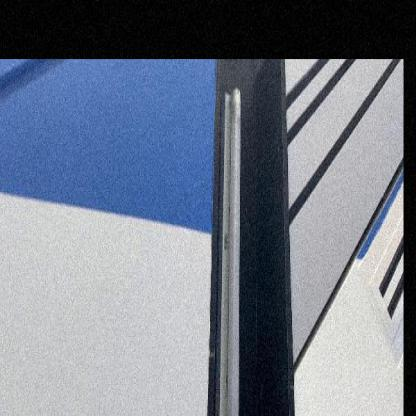light_off: (203, 79, 257, 415)
